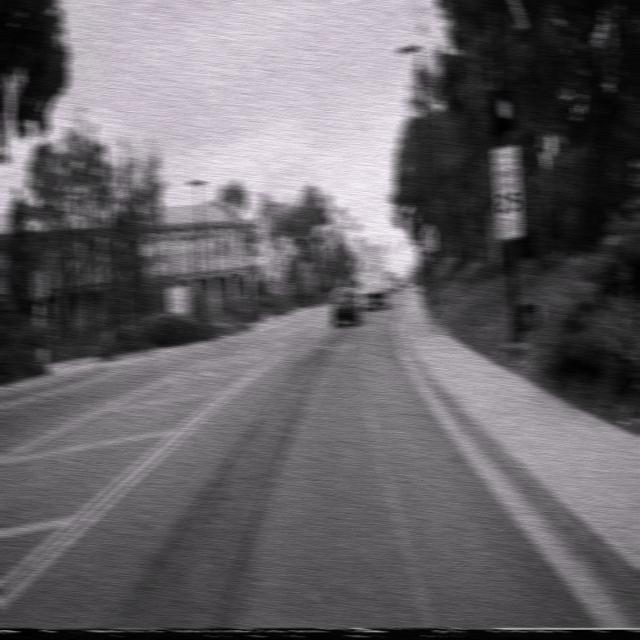speedLimit25: (491, 141, 524, 240)
